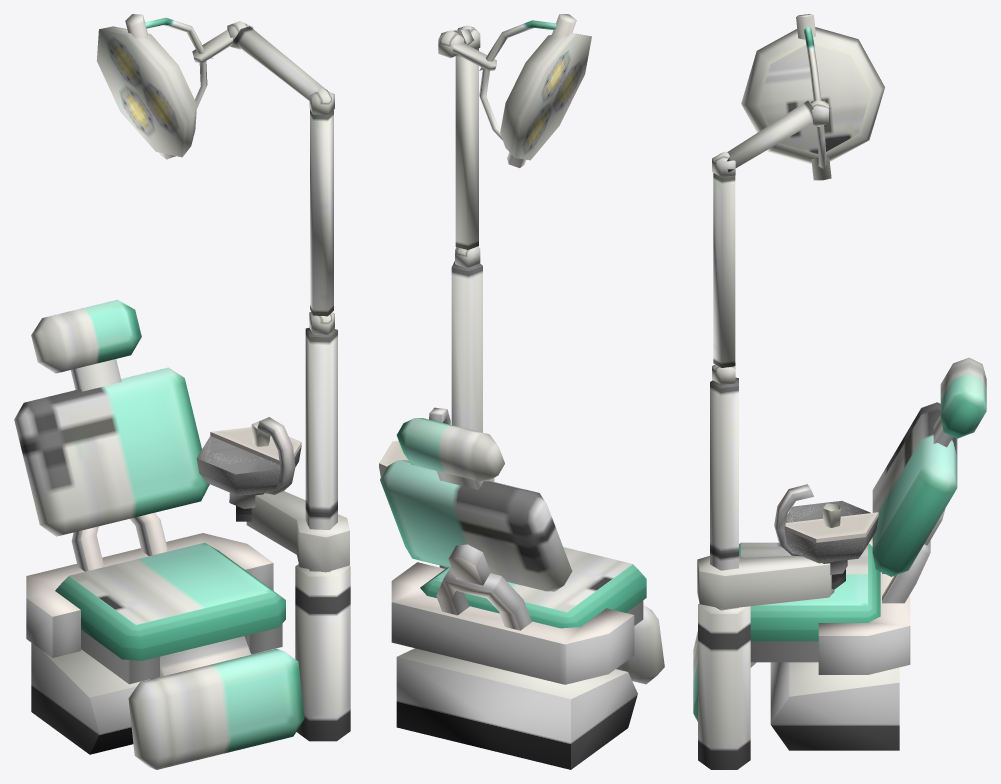
File: int_oth_dental.dae
3 views of the same model, side by side, from view 1: azimuth 30°, elevation 25°; view 2: azimuth 150°, elevation 25°; view 3: azimuth 270°, elevation 25° (orthographic). The views are drawn at different scales.
Visible parts, largest first — view 1: int_oth_dental; view 2: int_oth_dental; view 3: int_oth_dental.
Part boxes in pixels (x1=…): int_oth_dental: x1=14, y1=14, x2=350, y2=769; int_oth_dental: x1=379, y1=14, x2=664, y2=769; int_oth_dental: x1=693, y1=14, x2=986, y2=769.
Bounding box in the file's own units: 28.85 × 79.95 × 31.26.
1 material, 1 textured.
